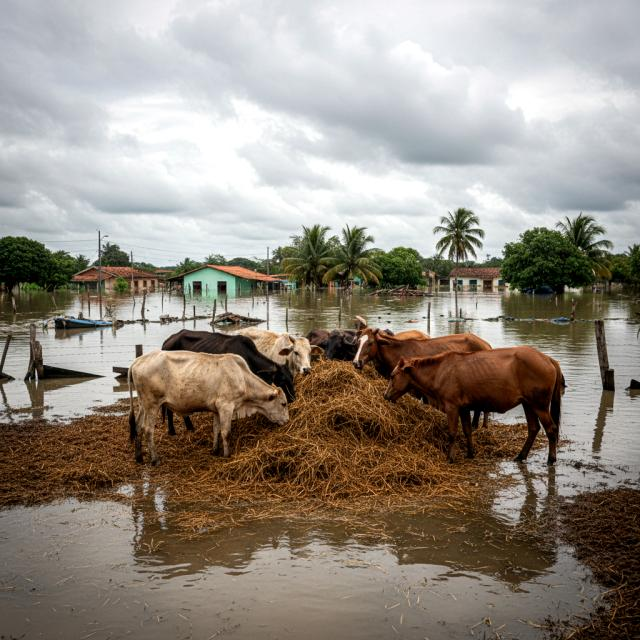cow: (380, 340, 571, 470), (126, 351, 294, 472), (162, 332, 300, 444), (225, 326, 319, 391), (305, 322, 352, 373)
horse: (354, 327, 498, 385)
